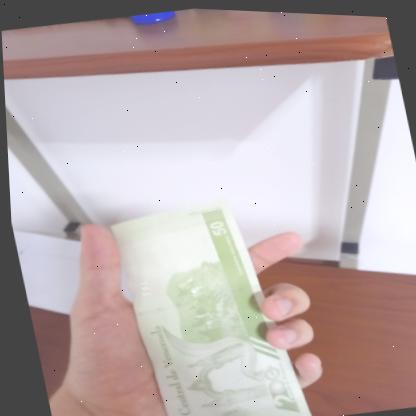fifty-back-vef: (102, 186, 308, 416)
